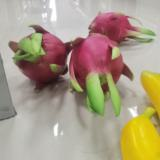pitaya: (69, 33, 134, 116), (8, 25, 72, 92), (88, 11, 156, 47)
